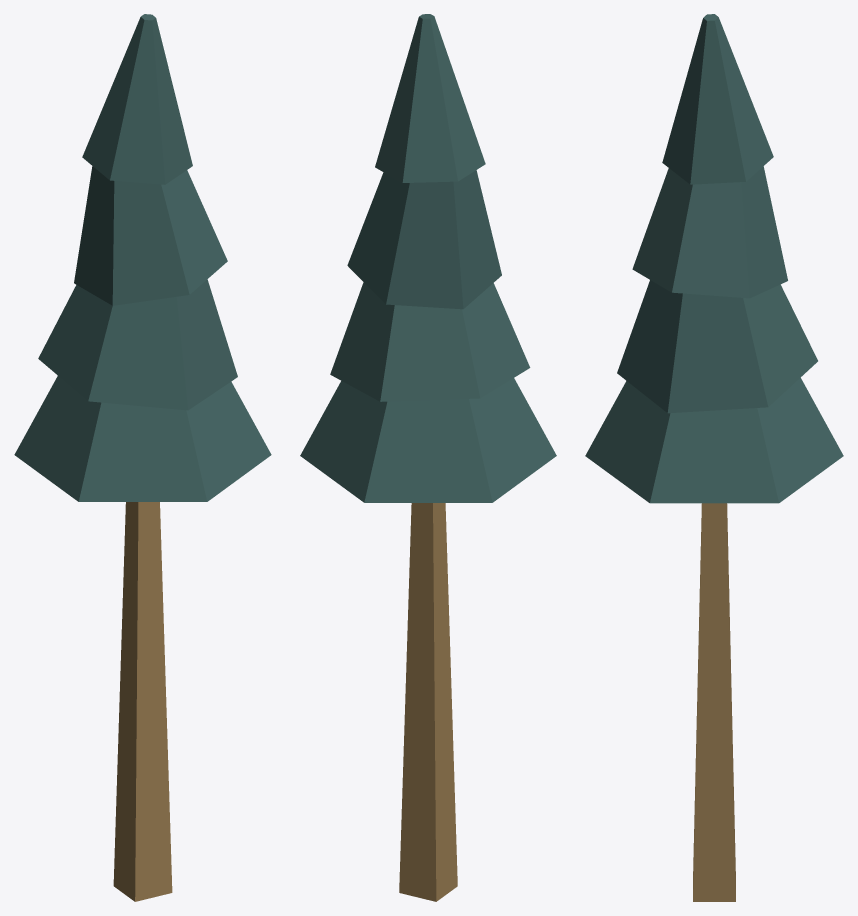
Rendered from naturePack_159.obj.
The picture shows the model from 3 angles, left to right: view 1: azimuth 30°, elevation 25°; view 2: azimuth 150°, elevation 25°; view 3: azimuth 270°, elevation 25°; orthographic projection.
Visible parts, largest first — view 1: Mesh1_Group1_Model.075; view 2: Mesh1_Group1_Model.075; view 3: Mesh1_Group1_Model.075.
Part boxes in pixels (x1,y1,x2,y2): Mesh1_Group1_Model.075: (14, 14, 271, 901); Mesh1_Group1_Model.075: (300, 14, 556, 901); Mesh1_Group1_Model.075: (585, 14, 843, 901).
Size of the model in its own units: 1.92 by 8.31 by 2.22.
